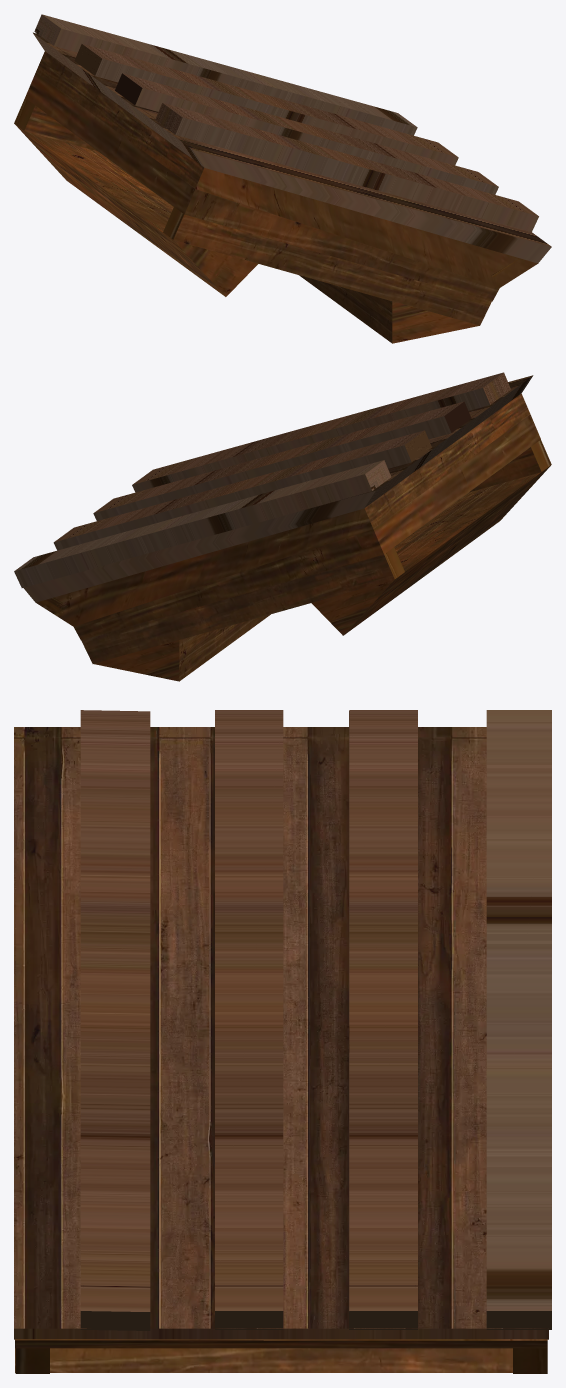
3 renders of one model, top to bottom at view 1: azimuth 30°, elevation 25°; view 2: azimuth 150°, elevation 25°; view 3: azimuth 270°, elevation 25°, orthographic. The views are drawn at different scales.
Visible parts, largest first — view 1: SM_BB_T2_Roof_Med_Shallow_LOD0; view 2: SM_BB_T2_Roof_Med_Shallow_LOD0; view 3: SM_BB_T2_Roof_Med_Shallow_LOD0.
Part boxes in pixels (bbox=[...]): SM_BB_T2_Roof_Med_Shallow_LOD0: bbox=[14, 14, 551, 343]; SM_BB_T2_Roof_Med_Shallow_LOD0: bbox=[14, 372, 551, 681]; SM_BB_T2_Roof_Med_Shallow_LOD0: bbox=[14, 710, 551, 1373].
Size of the model in its own units: 2.1 by 1.36 by 1.51.
Materials: 2 (2 with a texture image).
